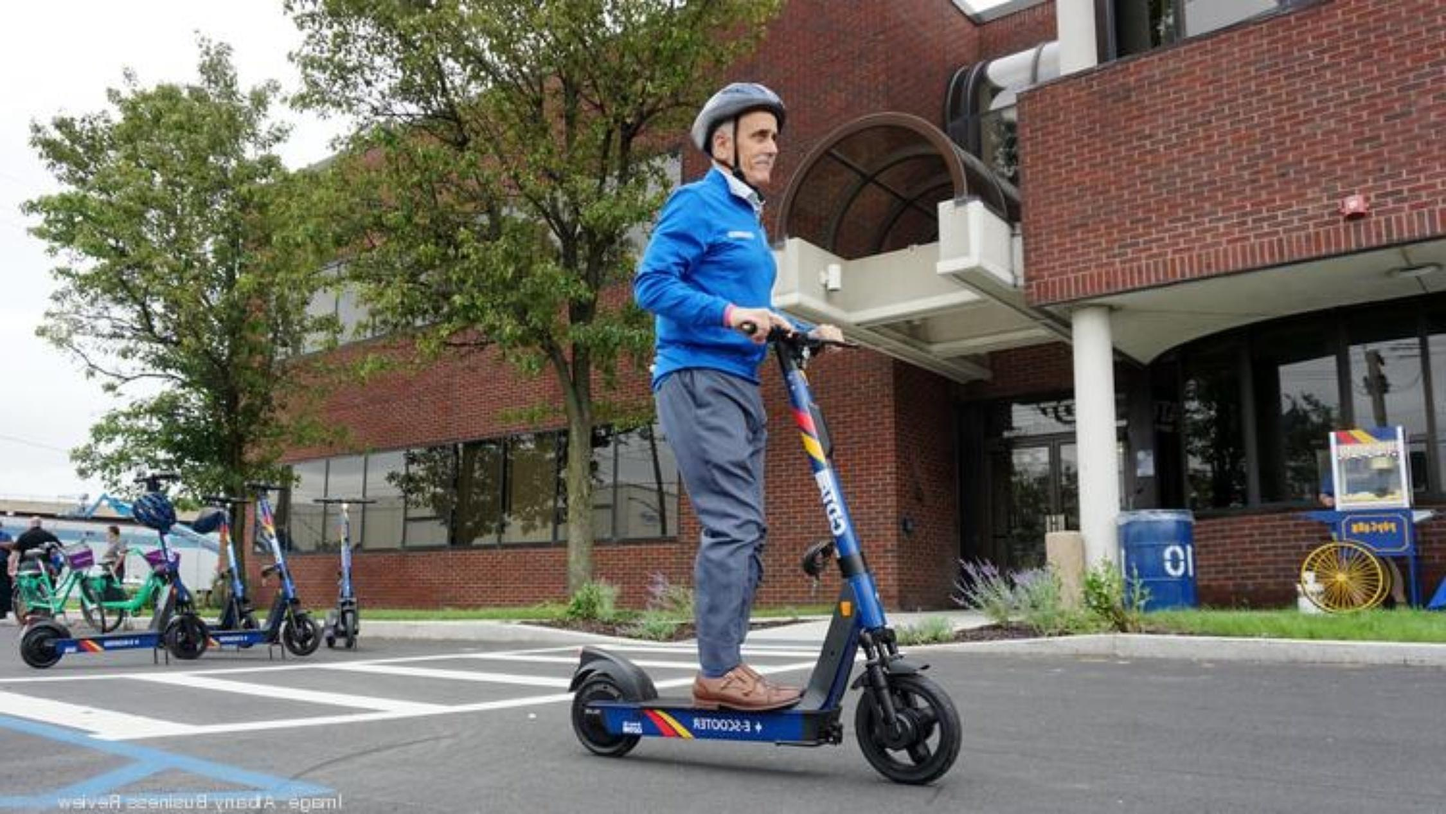helmet: (693, 83, 778, 197)
human: (630, 78, 831, 710)
kickboard: (558, 639, 963, 787)
